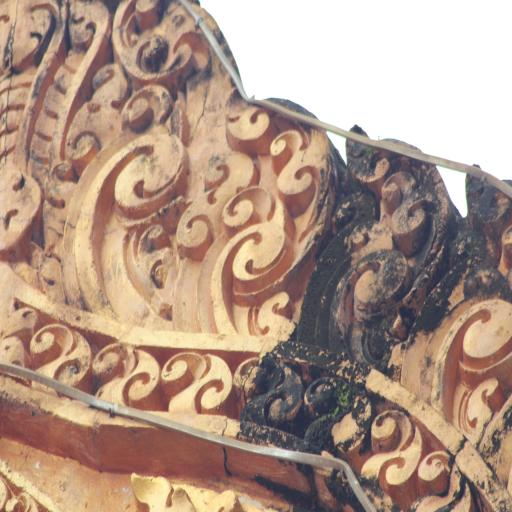lua: (60, 82, 186, 318), (198, 93, 311, 335), (333, 125, 430, 362), (366, 400, 414, 500), (98, 337, 157, 418), (163, 345, 228, 418), (32, 317, 92, 395)
